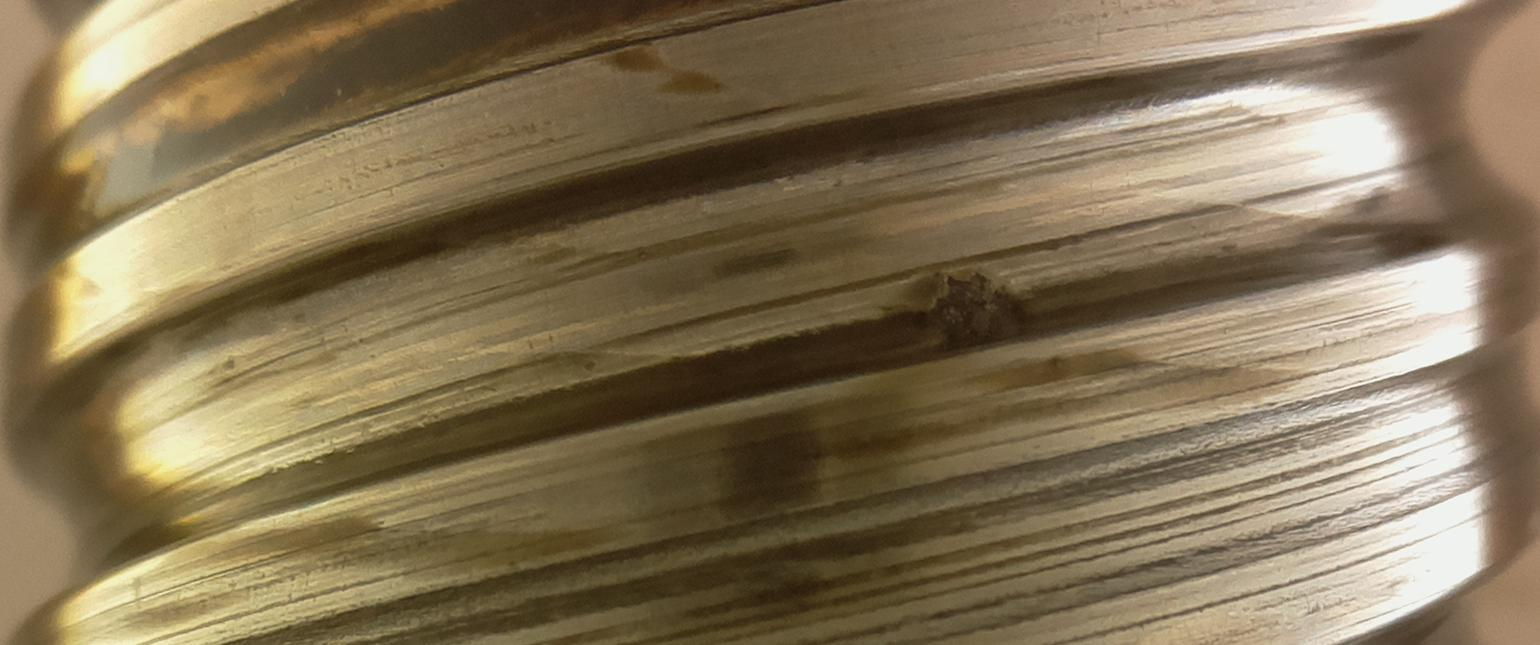pitting: (911, 272, 1027, 356)
